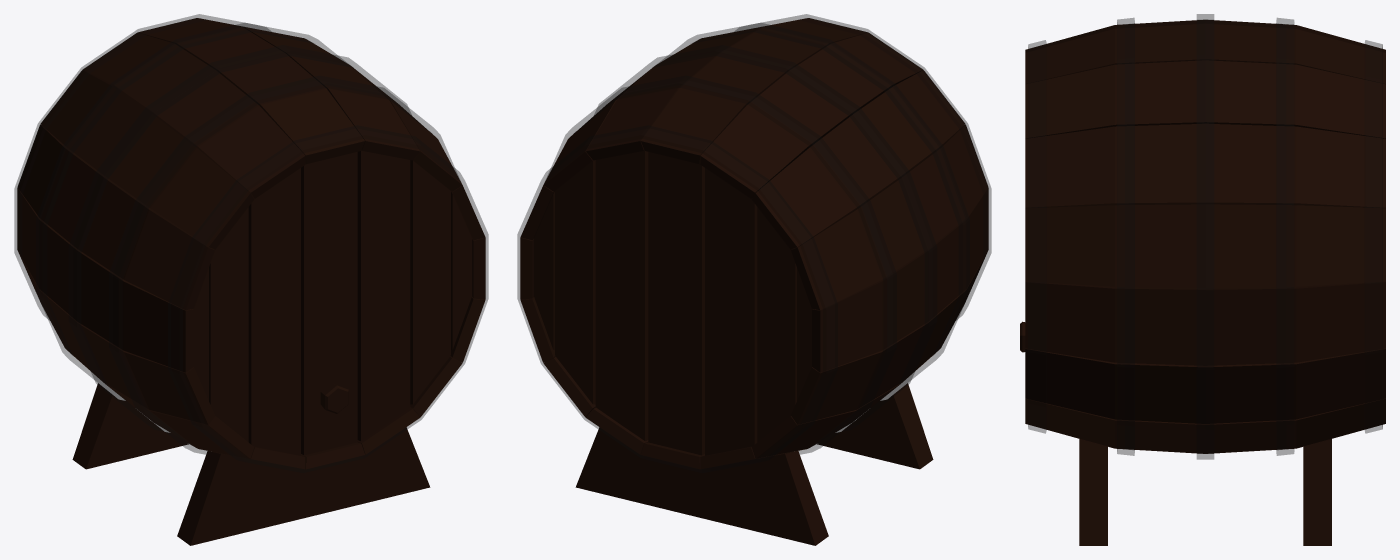
The model's file is keg.obj.
3 views of the same model, side by side, from view 1: azimuth 30°, elevation 25°; view 2: azimuth 150°, elevation 25°; view 3: azimuth 270°, elevation 25° (orthographic). The views are drawn at different scales.
Visible parts, largest first — view 1: Barrel_Big_Cube.063; view 2: Barrel_Big_Cube.063; view 3: Barrel_Big_Cube.063.
Part boxes in pixels (x1,y1,x2,y2): Barrel_Big_Cube.063: (14, 14, 488, 545); Barrel_Big_Cube.063: (517, 14, 991, 545); Barrel_Big_Cube.063: (1020, 14, 1385, 545).
Bounding box in the file's own units: 2.51 × 2.79 × 2.07.
